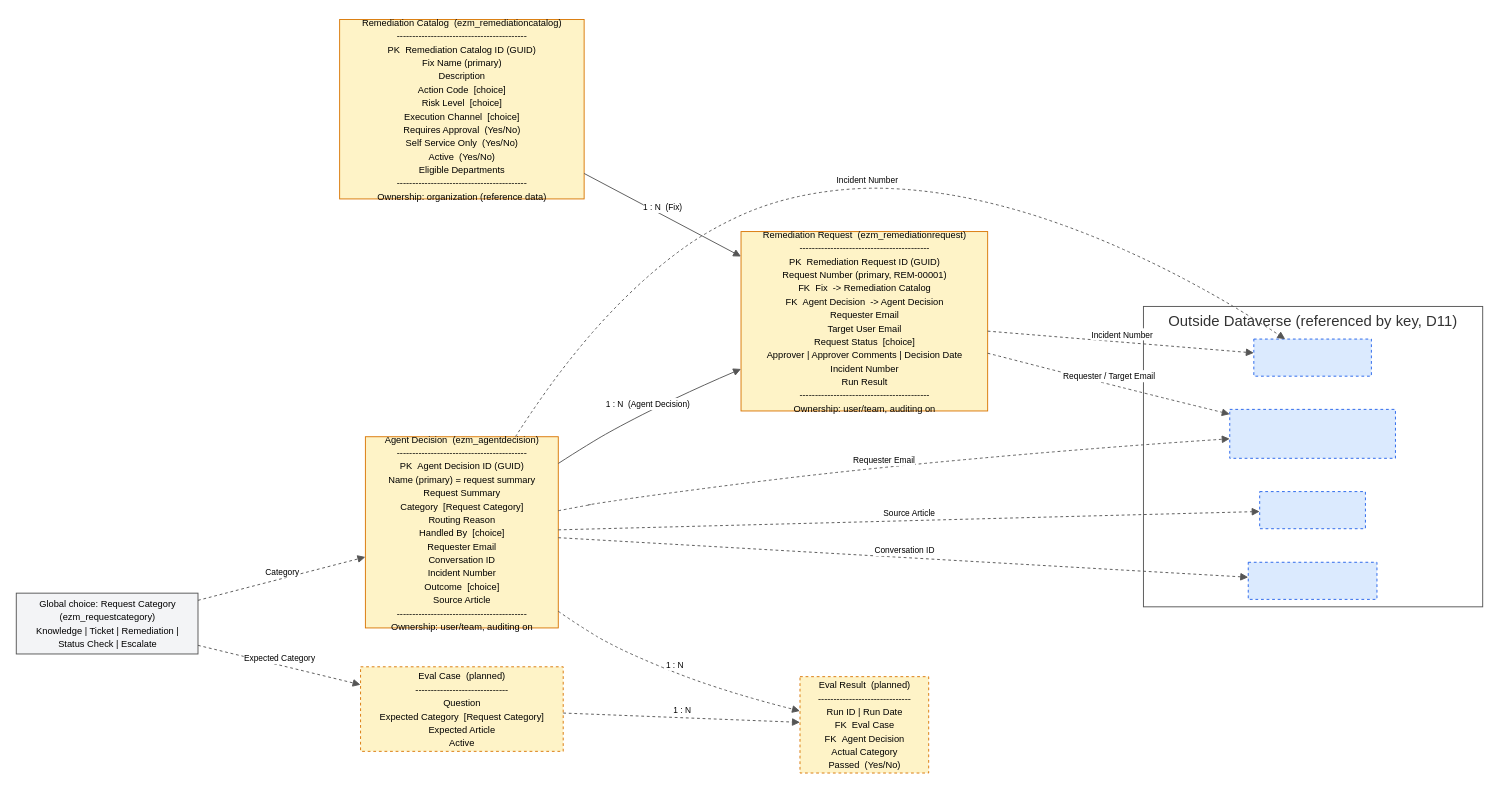
This 1499x790 diagram has some shape labels left out. Here are the shapes that lost their labels. From the top down, the centre of each, then its label:
(x=1312, y=357): ServiceNow Interaction | Incident
(x=1312, y=433): Microsoft Entra ID users, departments, managers, VPN-Users group
(x=1312, y=510): SharePoint KB Articles library
(x=1312, y=580): Copilot Studio conversation transcript
